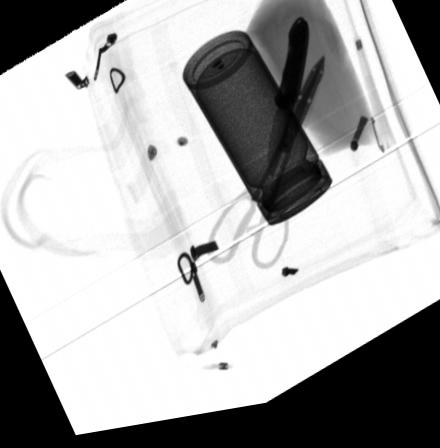Knife: (268, 27, 309, 191)
Scissors: (205, 67, 325, 282)
